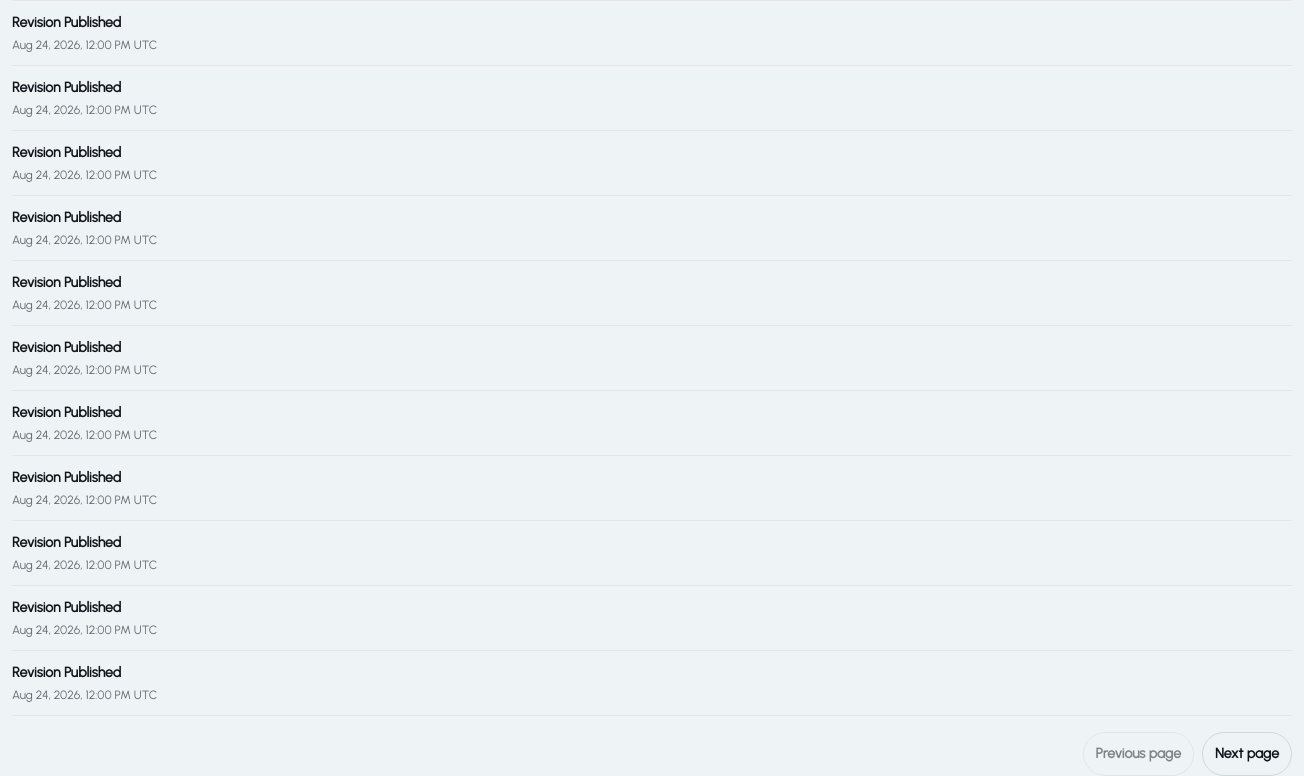
it: PayrollAuditPanel › shows one immutable 25-event page and keeps expanded audit absent without capability
(page scrolled)
Click the button "Next page".
click(1247, 754)  # box [1202,732,1292,775]
(page scrolled)
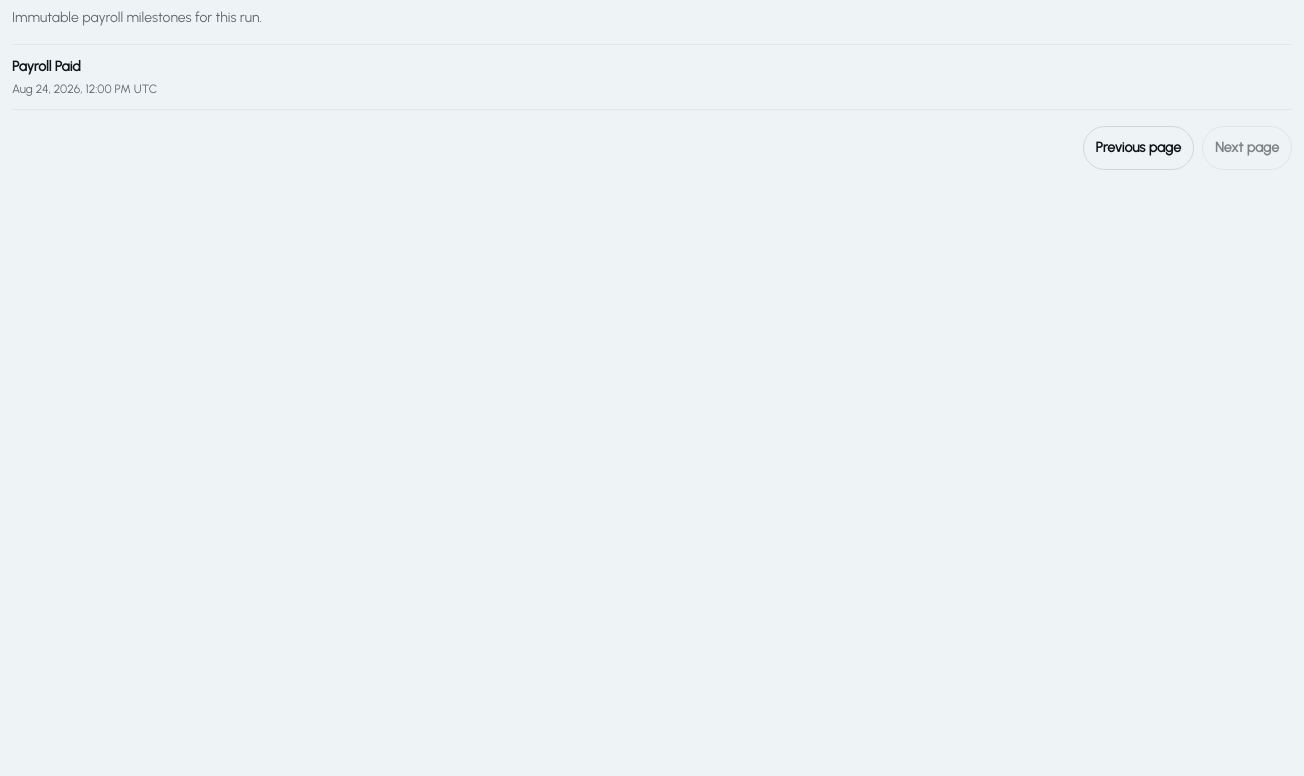
Result: the number of list items is 1 at [12,58,157,96]
